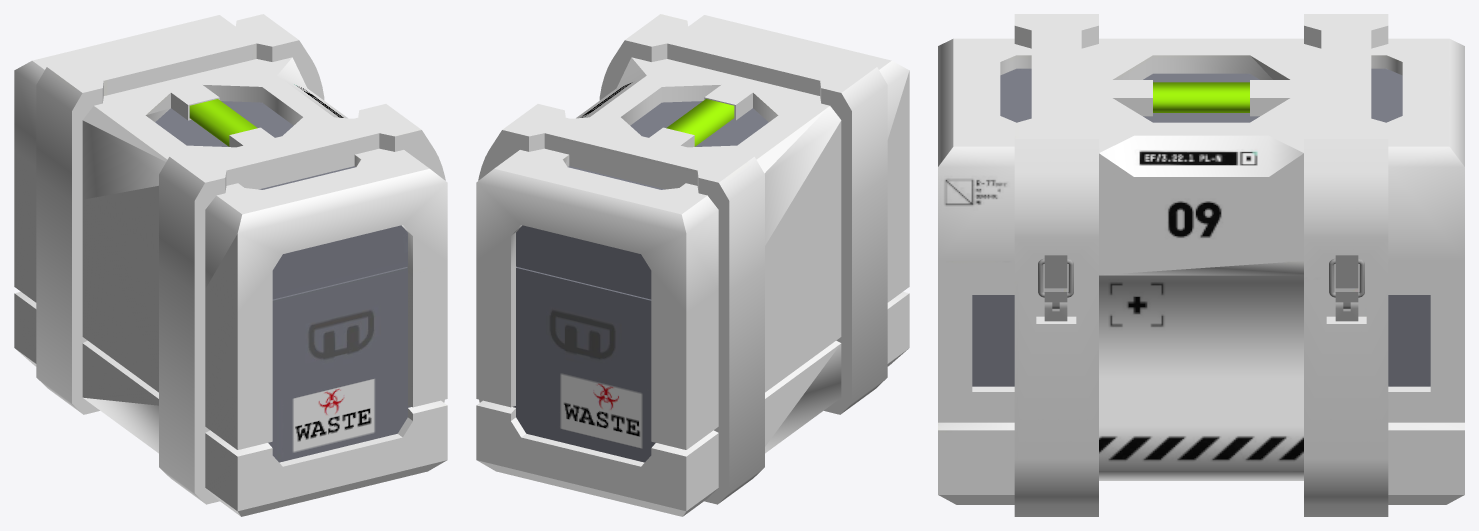
The model's file is crate.dae.
3 renders of one model, left to right at view 1: azimuth 30°, elevation 25°; view 2: azimuth 150°, elevation 25°; view 3: azimuth 270°, elevation 25°, orthographic. The views are drawn at different scales.
Visible parts, largest first — view 1: Cube_low, Cube_002_low, Cube_004_low, Cube_001_low, Cube_005_low, Cube_006_low, Cube_003_low; view 2: Cube_low, Cube_002_low, Cube_004_low, Cube_001_low, Cube_005_low, Cube_006_low, Cube_003_low; view 3: Cube_002_low, Cube_low, Cube_004_low, Cube_005_low, Cube_001_low, Cube_003_low, Box_low, Box_001_Curve_low, Box2_low.
Boxes of the visible parts, x1=… form: Cube_low: x1=14, y1=150, x2=447, y2=516; Cube_002_low: x1=14, y1=15, x2=447, y2=313; Cube_004_low: x1=36, y1=14, x2=445, y2=291; Cube_001_low: x1=155, y1=101, x2=410, y2=462; Cube_005_low: x1=36, y1=176, x2=444, y2=504; Cube_006_low: x1=272, y1=225, x2=407, y2=299; Cube_003_low: x1=189, y1=99, x2=257, y2=146; Cube_low: x1=476, y1=150, x2=909, y2=516; Cube_002_low: x1=476, y1=15, x2=909, y2=313; Cube_004_low: x1=478, y1=14, x2=887, y2=291; Cube_001_low: x1=513, y1=101, x2=768, y2=462; Cube_005_low: x1=479, y1=176, x2=887, y2=504; Cube_006_low: x1=516, y1=225, x2=651, y2=299; Cube_003_low: x1=666, y1=99, x2=734, y2=146; Cube_002_low: x1=938, y1=38, x2=1464, y2=260; Cube_low: x1=938, y1=261, x2=1464, y2=504; Cube_004_low: x1=1014, y1=14, x2=1388, y2=279; Cube_005_low: x1=1014, y1=272, x2=1388, y2=516; Cube_001_low: x1=972, y1=68, x2=1430, y2=386; Cube_003_low: x1=1153, y1=82, x2=1249, y2=112; Box_low: x1=1044, y1=255, x2=1358, y2=321; Box_001_Curve_low: x1=1038, y1=258, x2=1364, y2=297; Box2_low: x1=1044, y1=288, x2=1358, y2=308.
Size of the model in its own units: 0.2463 by 0.3766 by 0.3.
1 material, 1 textured.
